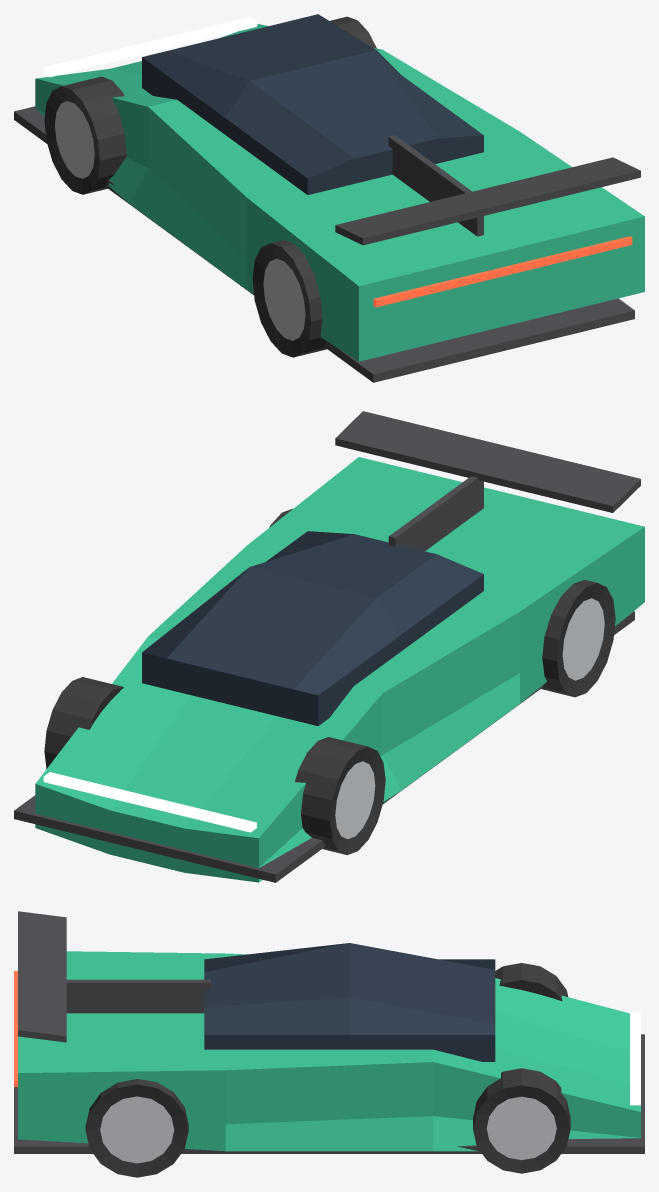
File: supercar.glb
3 renders of one model, top to bottom at view 1: azimuth 30°, elevation 25°; view 2: azimuth 150°, elevation 25°; view 3: azimuth 270°, elevation 25°, orthographic. The views are drawn at different scales.
Parts seen in each view (by area): view 1: car_body, Body_Canopy, Trim_AeroFloor, Body_RearWing, Wheel_FL, Wheel_RL, Trim_SharkFin, Light_Headlights, Light_Taillights, Wheel_FR; view 2: car_body, Body_Canopy, Body_RearWing, Wheel_FL, Wheel_RL, Trim_AeroFloor, Trim_SharkFin, Wheel_FR, Light_Headlights; view 3: car_body, Body_Canopy, Wheel_FR, Wheel_RR, Body_RearWing, Trim_SharkFin, Trim_AeroFloor, Wheel_FL, Light_Headlights, Light_Taillights.
Part boxes in pixels (x1,y1,x2,y2): car_body: [35, 24, 644, 361]; Body_Canopy: [142, 14, 483, 194]; Trim_AeroFloor: [14, 106, 634, 382]; Body_RearWing: [335, 157, 640, 245]; Wheel_FL: [44, 76, 126, 194]; Wheel_RL: [252, 239, 326, 357]; Trim_SharkFin: [388, 135, 483, 236]; Light_Headlights: [43, 17, 256, 77]; Light_Taillights: [373, 236, 632, 307]; Wheel_FR: [330, 16, 376, 48]; car_body: [35, 457, 644, 882]; Body_Canopy: [142, 531, 483, 725]; Body_RearWing: [335, 411, 640, 512]; Wheel_FL: [295, 737, 385, 855]; Wheel_RL: [541, 580, 615, 697]; Trim_AeroFloor: [14, 611, 634, 882]; Trim_SharkFin: [388, 476, 483, 551]; Wheel_FR: [44, 677, 123, 768]; Light_Headlights: [43, 772, 256, 832]; car_body: [18, 951, 640, 1151]; Body_Canopy: [204, 943, 495, 1061]; Wheel_FR: [473, 1068, 570, 1173]; Wheel_RR: [85, 1079, 188, 1177]; Body_RearWing: [18, 911, 66, 1042]; Trim_SharkFin: [66, 979, 210, 1013]; Trim_AeroFloor: [14, 1034, 644, 1153]; Wheel_FL: [495, 963, 568, 1000]; Light_Headlights: [630, 1011, 640, 1105]; Light_Taillights: [14, 971, 17, 1086].
Size of the model in its own units: 2.28 by 1.16 by 4.66.
